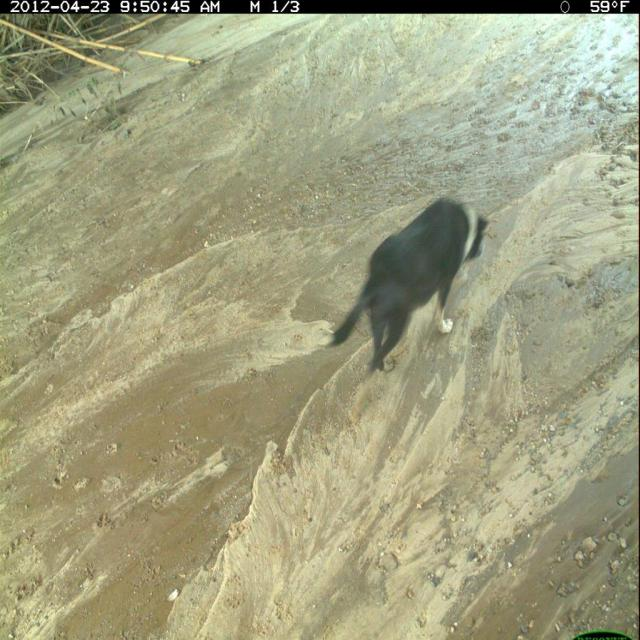dog: (316, 191, 493, 422)
